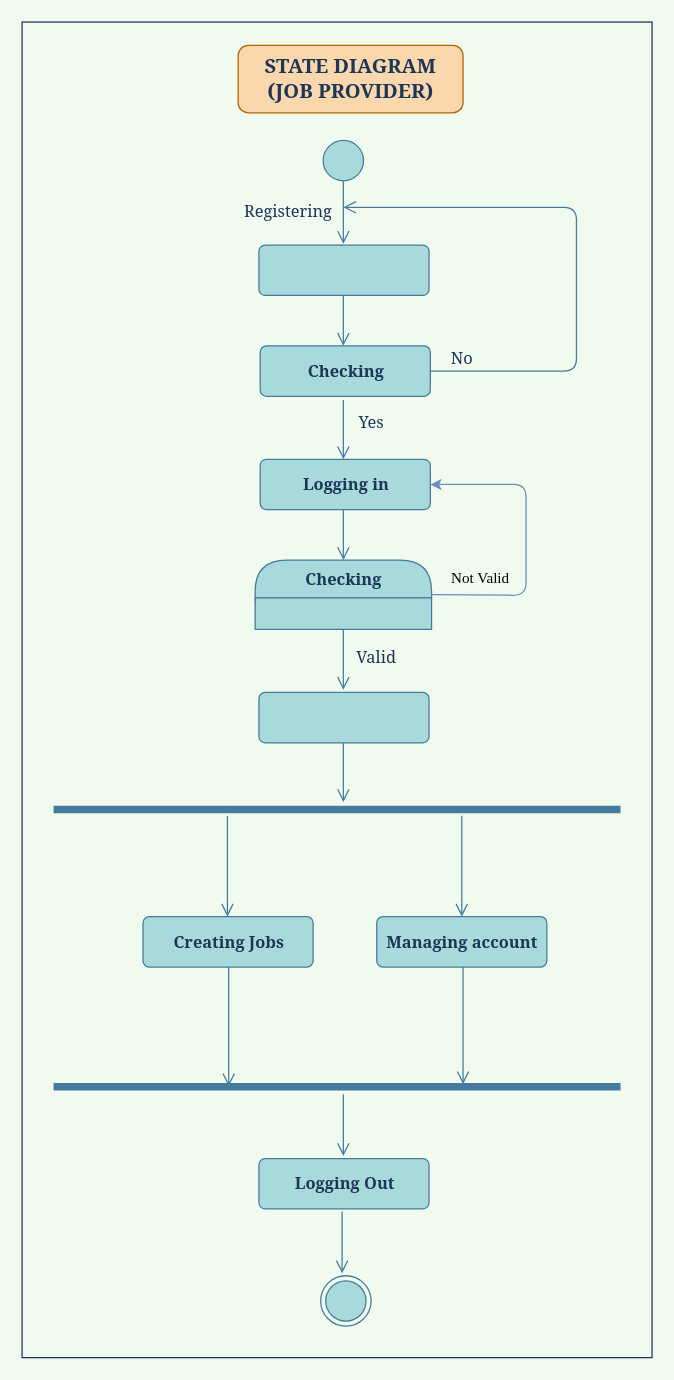
Some shapes in this 674 by 1380 pixel diagram are drawn without their labels. Here are the shapes that lost their labels. From the top down, the box of each, then its label:
(258, 244, 429, 295): Registered
(254, 597, 432, 629): Valid/Not Valid
(258, 691, 429, 743): Logged In
